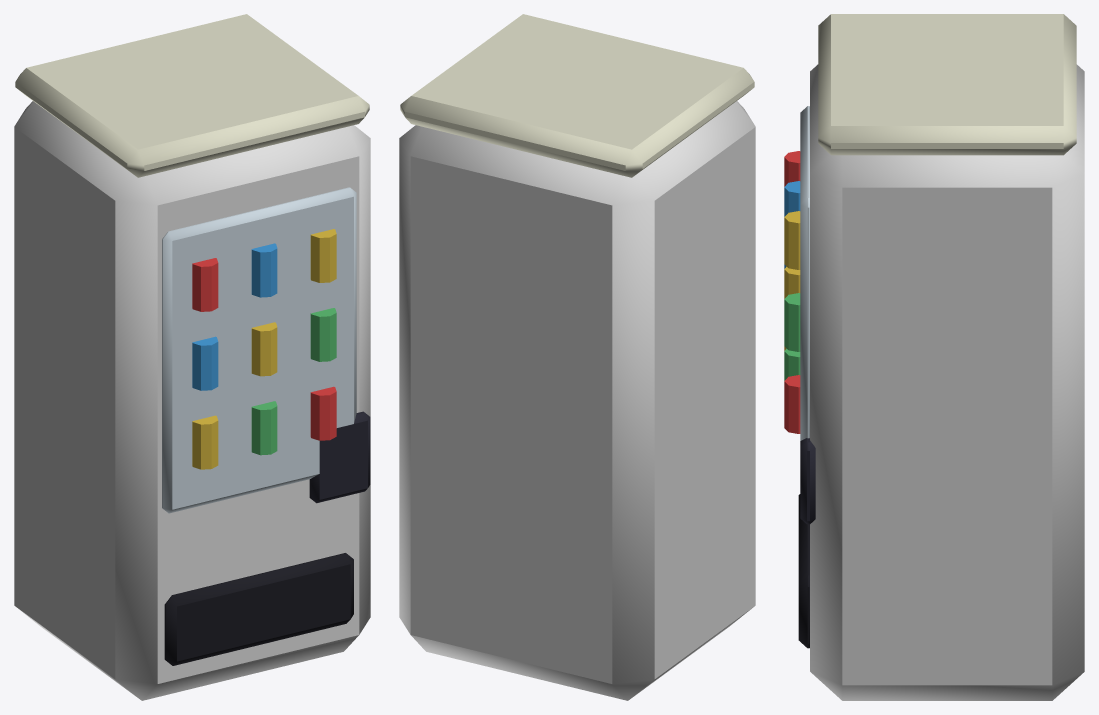
The model's file is vending.glb.
3 views of the same model, side by side, from view 1: azimuth 30°, elevation 25°; view 2: azimuth 150°, elevation 25°; view 3: azimuth 270°, elevation 25° (orthographic). The views are drawn at different scales.
Visible parts, largest first — view 1: vending; view 2: vending; view 3: vending.
Part boxes in pixels (left/top/right/bottom): vending: left=14, top=14, right=370, bottom=700; vending: left=399, top=14, right=755, bottom=700; vending: left=784, top=14, right=1084, bottom=700.
Bounding box in the file's own units: 0.95 × 1.98 × 0.93.
